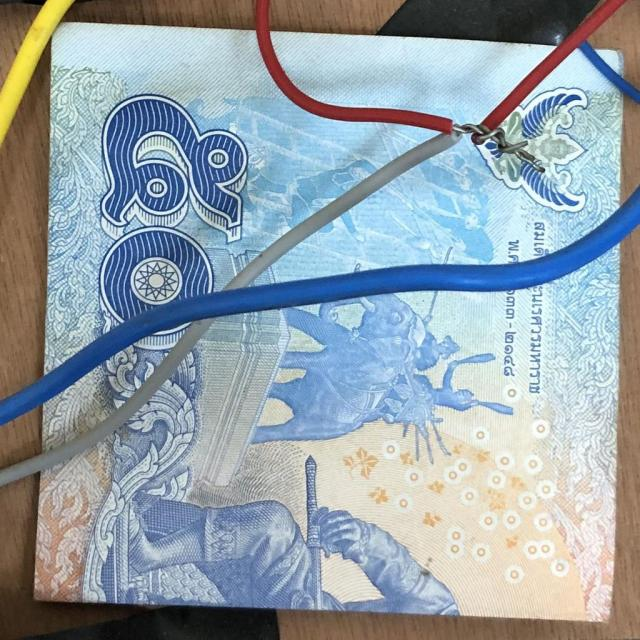THAI50: (34, 249, 618, 621), (46, 22, 435, 373), (251, 52, 622, 284), (272, 32, 553, 121), (42, 325, 189, 450)
